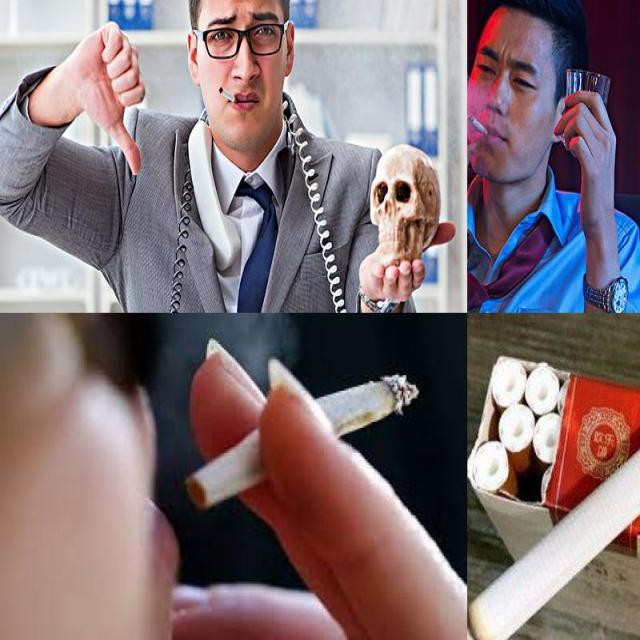cigarette: (467, 313, 639, 639), (188, 374, 420, 509), (467, 104, 491, 137), (218, 86, 238, 103)
